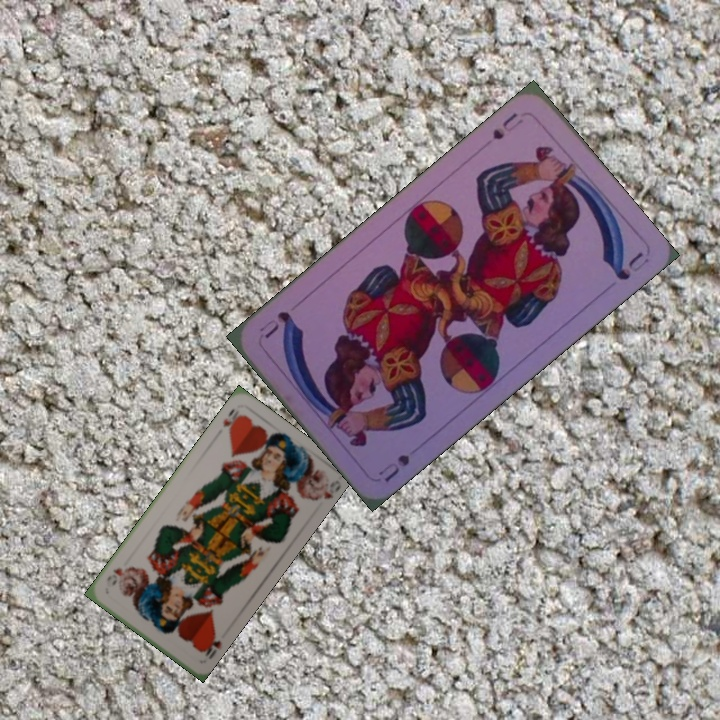HO: (196, 628, 224, 662), (218, 404, 242, 436)
SU: (374, 450, 413, 485), (488, 108, 520, 142)
